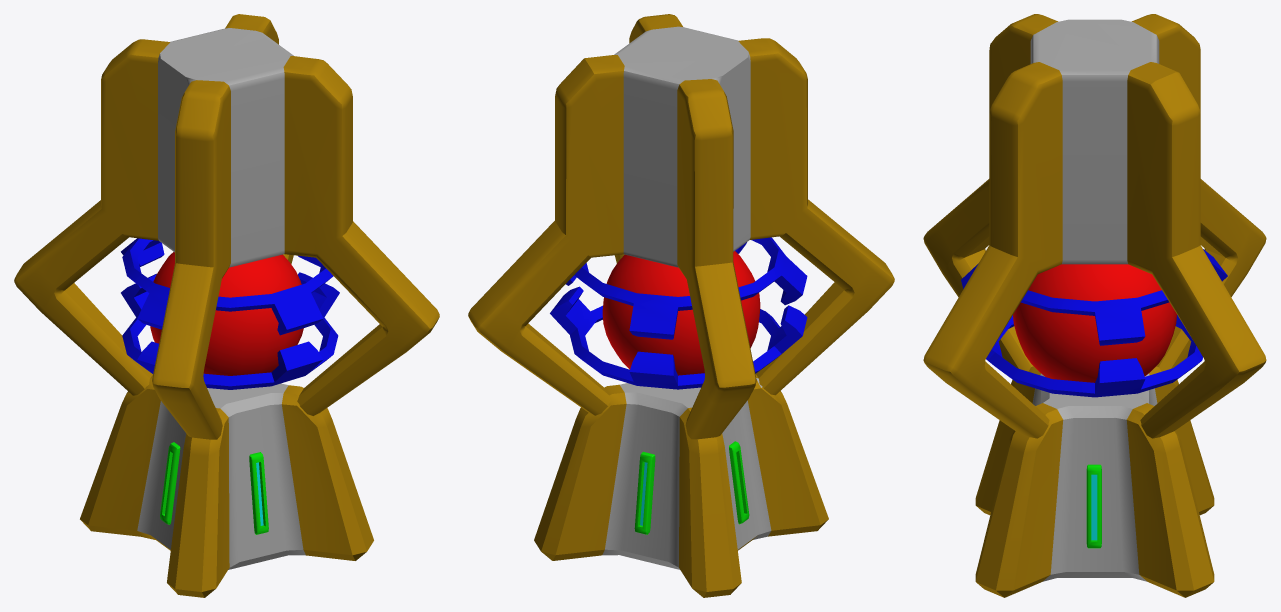
The model's file is Reactor.fbx.
3 views of the same model, side by side, from view 1: azimuth 30°, elevation 25°; view 2: azimuth 150°, elevation 25°; view 3: azimuth 270°, elevation 25° (orthographic). The views are drawn at different scales.
Visible parts, largest first — view 1: ReactorBody, ReactorCore, Central_Spinner_Top, Central_Spinner_Bottom; view 2: ReactorBody, ReactorCore, Central_Spinner_Bottom, Central_Spinner_Top; view 3: ReactorBody, ReactorCore, Central_Spinner_Bottom, Central_Spinner_Top.
Part boxes in pixels (x1,y1,x2,y2): ReactorBody: [14, 14, 439, 597]; ReactorCore: [150, 252, 303, 375]; Central_Spinner_Top: [121, 238, 333, 335]; Central_Spinner_Bottom: [121, 272, 339, 389]; ReactorBody: [468, 14, 894, 597]; ReactorCore: [602, 251, 760, 375]; Central_Spinner_Bottom: [550, 286, 807, 389]; Central_Spinner_Top: [566, 237, 807, 339]; ReactorBody: [923, 14, 1266, 597]; ReactorCore: [1013, 264, 1176, 382]; Central_Spinner_Bottom: [986, 315, 1202, 397]; Central_Spinner_Top: [961, 249, 1227, 345].
Bounding box in the file's own units: 10.29 × 16.69 × 10.29.
